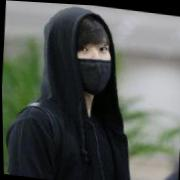WRONG: (69, 34, 116, 96)
